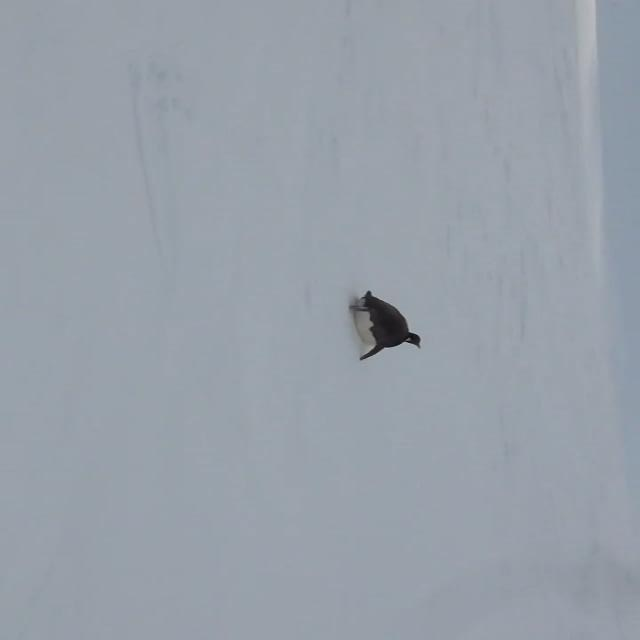penguin: (346, 289, 424, 363)
